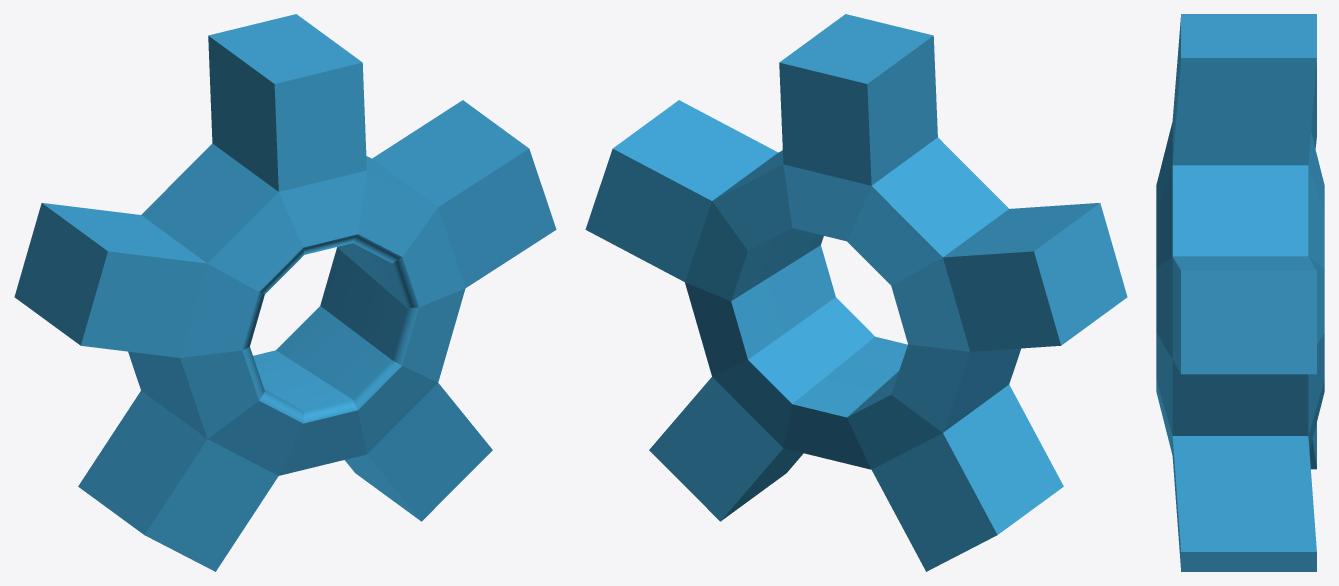
Rendered from Gear_Diam_01_Size_1.fbx.
The picture shows the model from 3 angles, left to right: view 1: azimuth 30°, elevation 25°; view 2: azimuth 150°, elevation 25°; view 3: azimuth 270°, elevation 25°; orthographic projection. The views are drawn at different scales.
Parts seen in each view (by area): view 1: Gear_Diam_01_Size_1; view 2: Gear_Diam_01_Size_1; view 3: Gear_Diam_01_Size_1.
Part boxes in pixels (x1,y1,x2,y2): Gear_Diam_01_Size_1: (14,14,556,571); Gear_Diam_01_Size_1: (585,14,1127,571); Gear_Diam_01_Size_1: (1156,14,1324,571).
Bounding box in the file's own units: 8.87 × 8.44 × 2.65.
